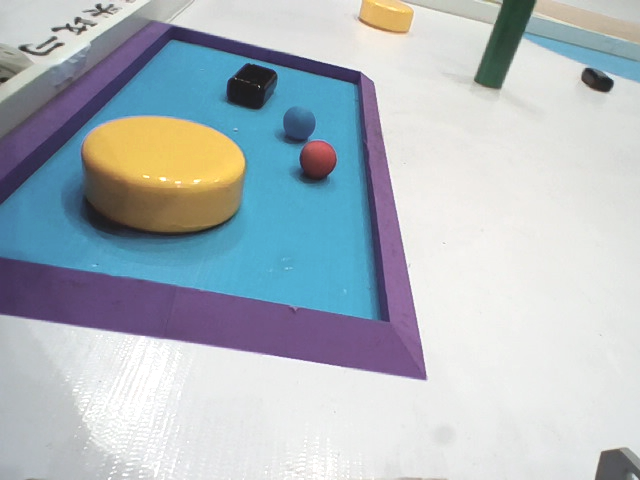black: (224, 63, 274, 105), (579, 68, 616, 96)
blue: (283, 107, 317, 140)
kuang: (1, 16, 429, 384)
red: (295, 138, 339, 176)
yellow: (77, 116, 243, 231), (355, 1, 417, 39)
zhuzi: (459, 1, 539, 93)
